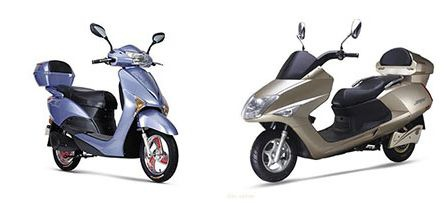non-vehicle: (240, 21, 432, 185), (31, 19, 180, 186)
